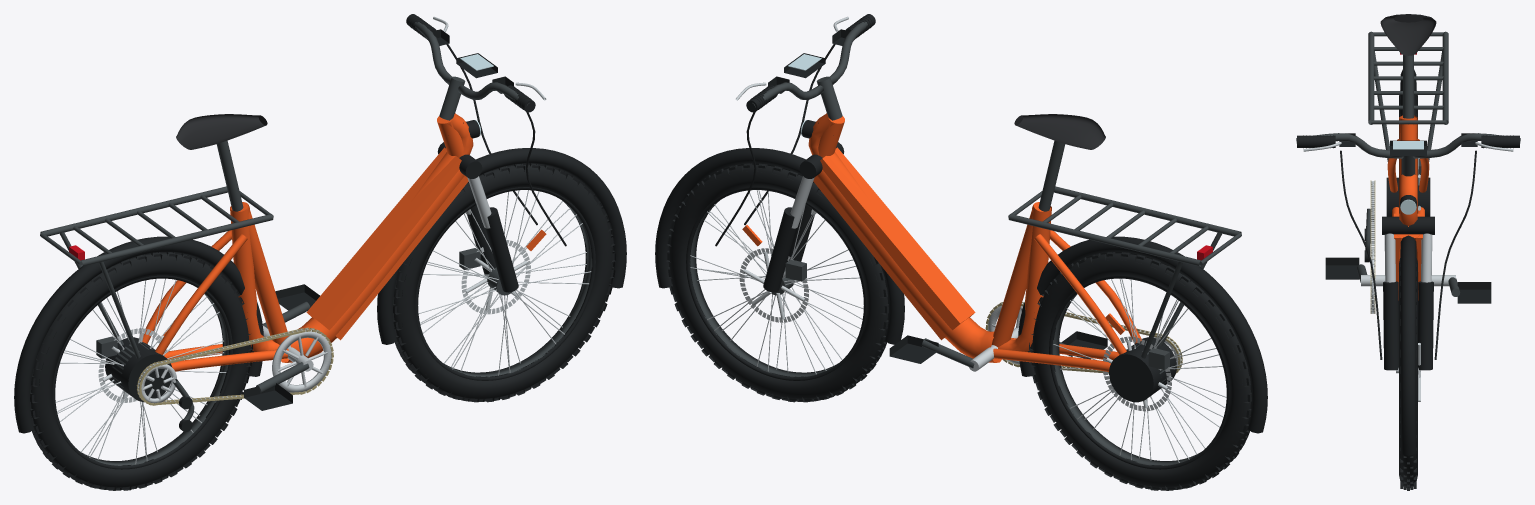
File: rad-power-radcity-5-plus.glb
3 renders of one model, left to right at view 1: azimuth 30°, elevation 25°; view 2: azimuth 150°, elevation 25°; view 3: azimuth 270°, elevation 25°, orthographic. The views are drawn at different scales.
Parts seen in each view (by area): view 1: RearWheel | rubber, FrontWheel | rubber, Bodywork | black, BatteryMount | orange, Chassis | orange, Bodywork | graphite, FrontWheel | steel, RearWheel | steel, Drive | steel, FrontWheel | black, Fork | black, RearWheel | black (+11 smaller); view 2: RearWheel | rubber, FrontWheel | rubber, BatteryMount | orange, Bodywork | black, Chassis | orange, Bodywork | graphite, FrontWheel | steel, RearWheel | steel, FrontWheel | black, MotorMount | black, RearWheel | black, Fork | black (+10 smaller); view 3: Bodywork | black, Bodywork | graphite, Fork | black, Cockpit | rubber, Chassis | orange, Bodywork | seat, Drive | black, FrontWheel | rubber, Cockpit | graphite, Fork | steel, Drive | steel, Cockpit | black (+7 smaller).
Part boxes in pixels (bbox=[...]): RearWheel | rubber: bbox=[30, 252, 252, 490]; FrontWheel | rubber: bbox=[393, 163, 615, 402]; Bodywork | black: bbox=[14, 120, 626, 433]; BatteryMount | orange: bbox=[281, 147, 468, 362]; Chassis | orange: bbox=[142, 113, 473, 371]; Bodywork | graphite: bbox=[40, 186, 273, 358]; FrontWheel | steel: bbox=[418, 190, 591, 375]; RearWheel | steel: bbox=[55, 278, 226, 464]; Drive | steel: bbox=[137, 325, 331, 403]; FrontWheel | black: bbox=[415, 187, 595, 380]; Fork | black: bbox=[437, 142, 518, 292]; RearWheel | black: bbox=[52, 275, 232, 469]; RearWheel | rubber: bbox=[1029, 252, 1251, 490]; FrontWheel | rubber: bbox=[666, 163, 888, 402]; BatteryMount | orange: bbox=[813, 147, 1001, 362]; Bodywork | black: bbox=[655, 120, 1267, 433]; Chassis | orange: bbox=[808, 113, 1141, 371]; Bodywork | graphite: bbox=[1008, 186, 1241, 358]; FrontWheel | steel: bbox=[690, 190, 863, 374]; RearWheel | steel: bbox=[1053, 278, 1226, 462]; FrontWheel | black: bbox=[686, 187, 866, 380]; MotorMount | black: bbox=[1109, 337, 1176, 402]; RearWheel | black: bbox=[1049, 275, 1229, 469]; Fork | black: bbox=[763, 142, 844, 292]; Bodywork | black: bbox=[1400, 69, 1416, 455]; Bodywork | graphite: bbox=[1368, 31, 1448, 161]; Fork | black: bbox=[1382, 216, 1434, 370]; Cockpit | rubber: bbox=[1297, 135, 1519, 359]; Chassis | orange: bbox=[1387, 115, 1429, 226]; Bodywork | seat: bbox=[1380, 14, 1436, 55]; Drive | black: bbox=[1325, 228, 1491, 303]; FrontWheel | rubber: bbox=[1399, 249, 1417, 490]; Cockpit | graphite: bbox=[1296, 133, 1520, 176]; Fork | steel: bbox=[1384, 233, 1432, 282]; Drive | steel: bbox=[1361, 181, 1455, 313]; Cockpit | black: bbox=[1303, 133, 1513, 155].
Size of the model in its own units: 1.97 by 1.07 by 0.6634.
